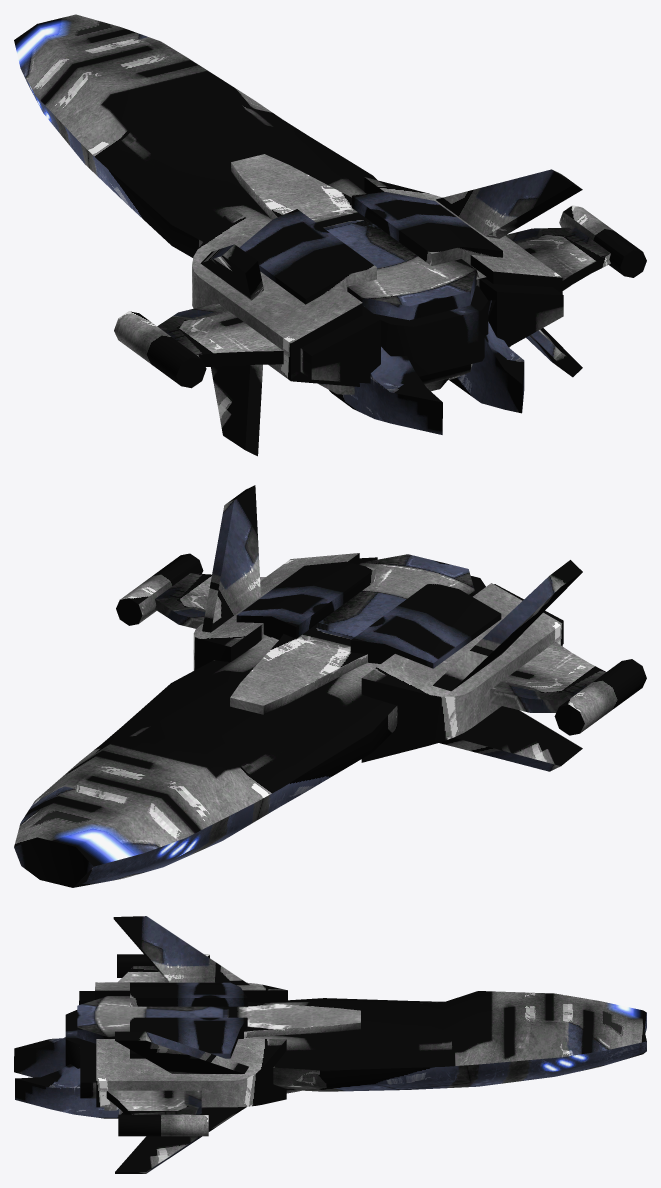
Rendered from Destroyer.fbx.
3 views of the same model, one above another, from view 1: azimuth 30°, elevation 25°; view 2: azimuth 150°, elevation 25°; view 3: azimuth 270°, elevation 25° (orthographic). The views are drawn at different scales.
Visible parts, largest first — view 1: 00_Core, 02_WingRight, 03_WingLeft, 01_Nose; view 2: 00_Core, 01_Nose, 02_WingRight, 03_WingLeft; view 3: 00_Core, 02_WingRight, 01_Nose, 03_WingLeft.
Part boxes in pixels (x1,y1,x2,y2): 00_Core: (35, 41, 524, 456); 02_WingRight: (436, 169, 646, 377); 03_WingLeft: (114, 303, 283, 388); 01_Nose: (14, 14, 237, 110); 00_Core: (71, 553, 582, 866); 01_Nose: (14, 737, 186, 887); 02_WingRight: (116, 485, 377, 632); 03_WingLeft: (490, 642, 646, 735); 00_Core: (14, 916, 554, 1118); 02_WingRight: (79, 1031, 248, 1173); 01_Nose: (478, 993, 646, 1086); 03_WingLeft: (117, 954, 209, 982).
Size of the model in its own units: 11182 by 4462 by 17624.
1 material, 1 textured.
